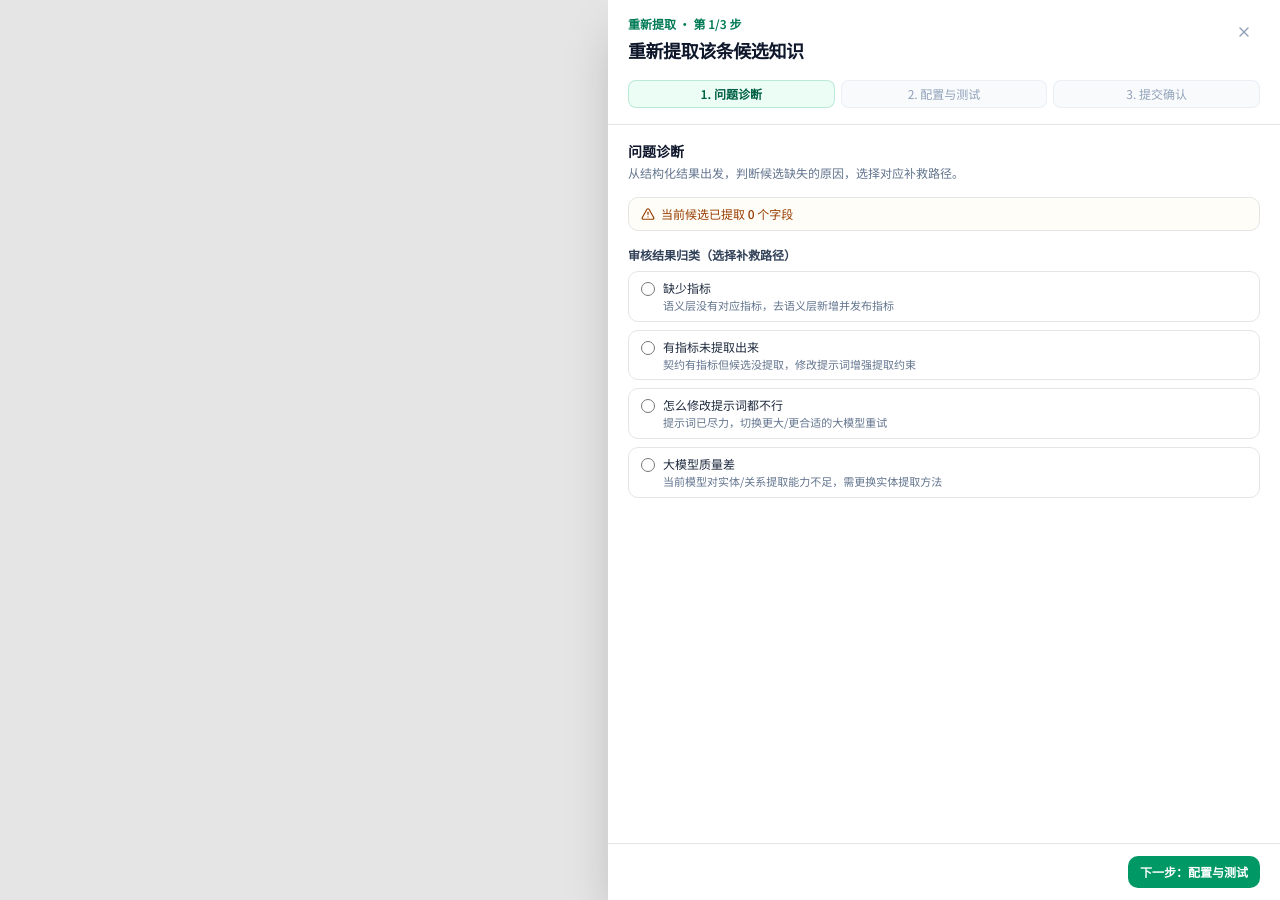
Test case: ReextractConfigDialog（迭代 19：诊断 + 测试 + 3步向导） › 选择诊断路径后进入第2步可切换自定义提示词
Expected: the heading "问题诊断" is shown, [628,141,684,161]
Click the text "有指标未提取出来".
click(711, 346)  # box [663,338,759,355]
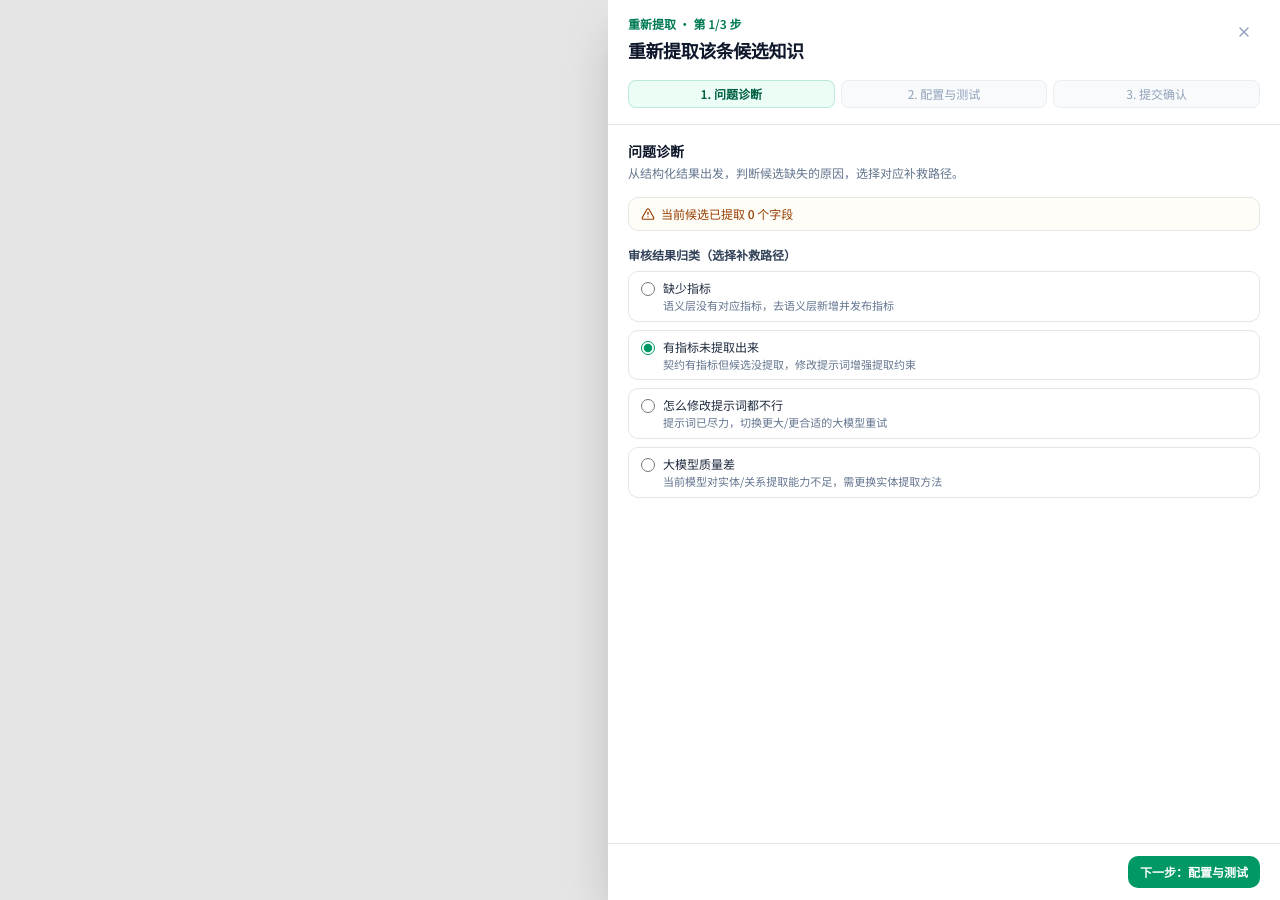
Click the button "下一步：配置与测试".
click(1194, 872)  # box [1128,856,1260,888]
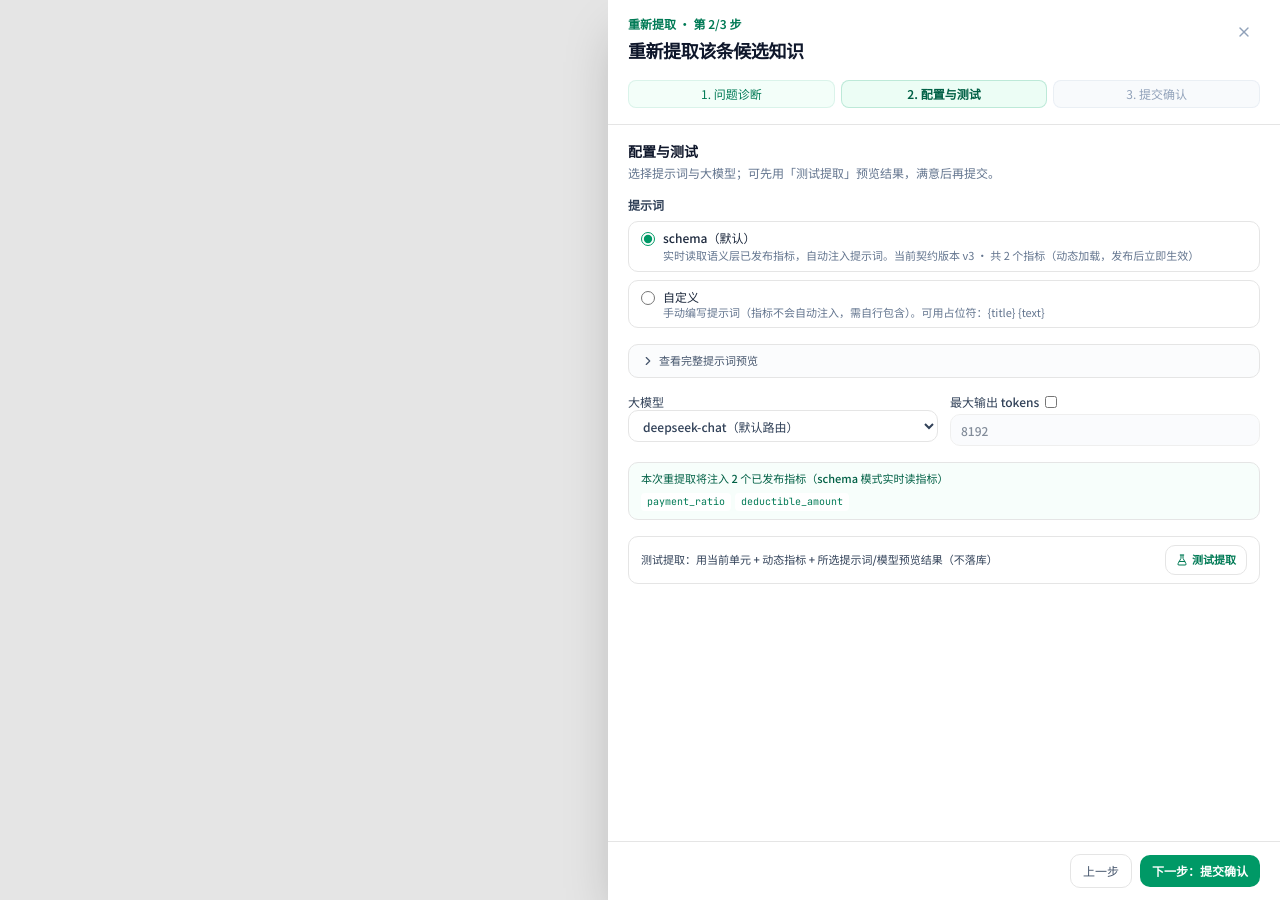
Expected: the heading "配置与测试" is shown, [628,141,698,161]
Expected: the radio button showing "schema" is shown, [641,232,655,246]
